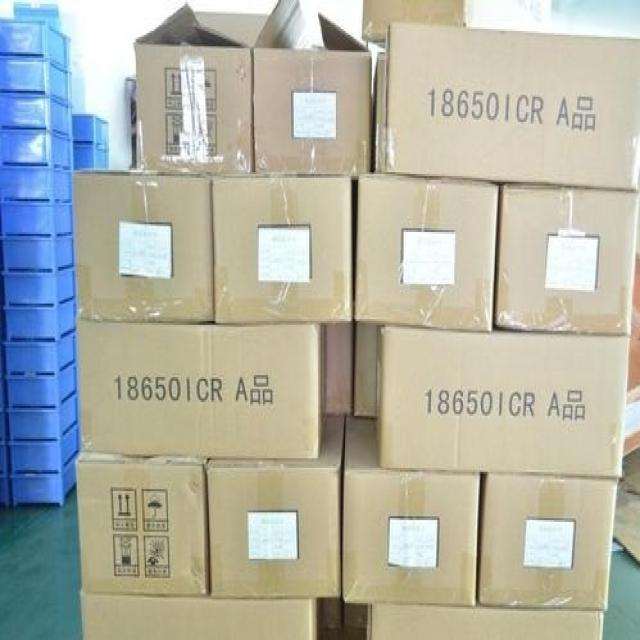box: (373, 29, 639, 189), (370, 324, 630, 477), (77, 319, 327, 457), (344, 417, 479, 606), (207, 415, 344, 599), (134, 2, 271, 176), (357, 173, 499, 334), (496, 180, 639, 333), (73, 169, 215, 320), (253, 0, 373, 172), (213, 177, 352, 323), (78, 453, 210, 597), (480, 473, 619, 609), (82, 589, 319, 637), (368, 605, 603, 638), (361, 1, 470, 46), (353, 319, 380, 417), (326, 322, 354, 416), (316, 598, 341, 631), (344, 601, 368, 632)
